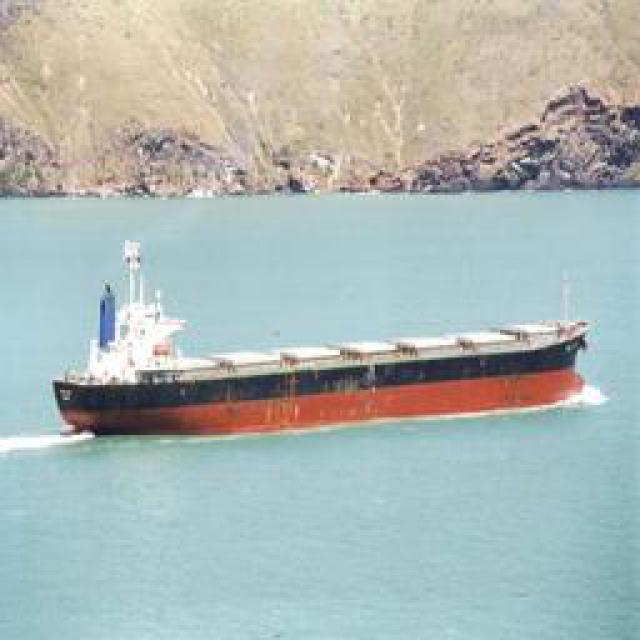Ship: (46, 289, 584, 444)
